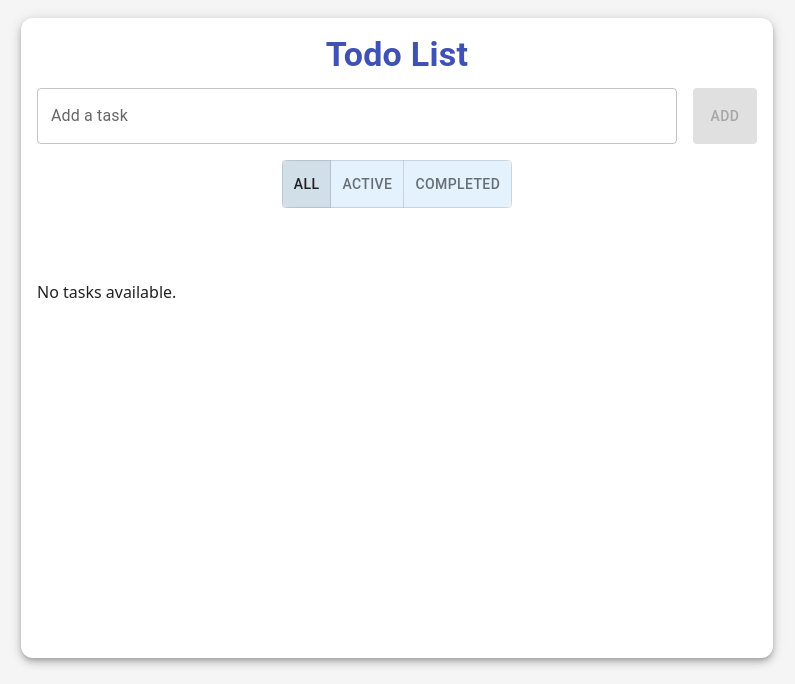
Test case: App Component › deletes a task
In the field labelled "Add a task": (357, 116) [37, 88, 677, 144], type "Task to Delete"
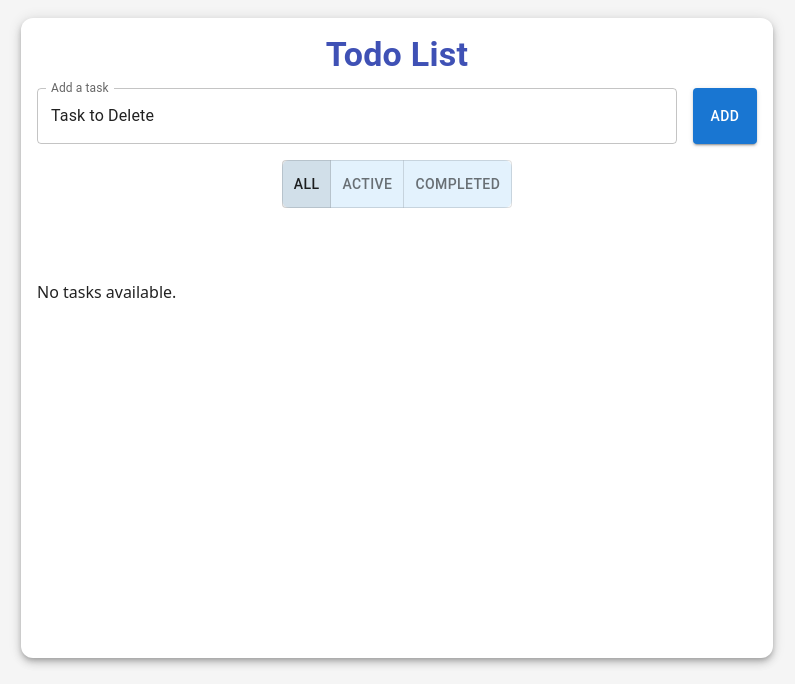
Click the button "Add": (725, 116) [693, 88, 757, 144]
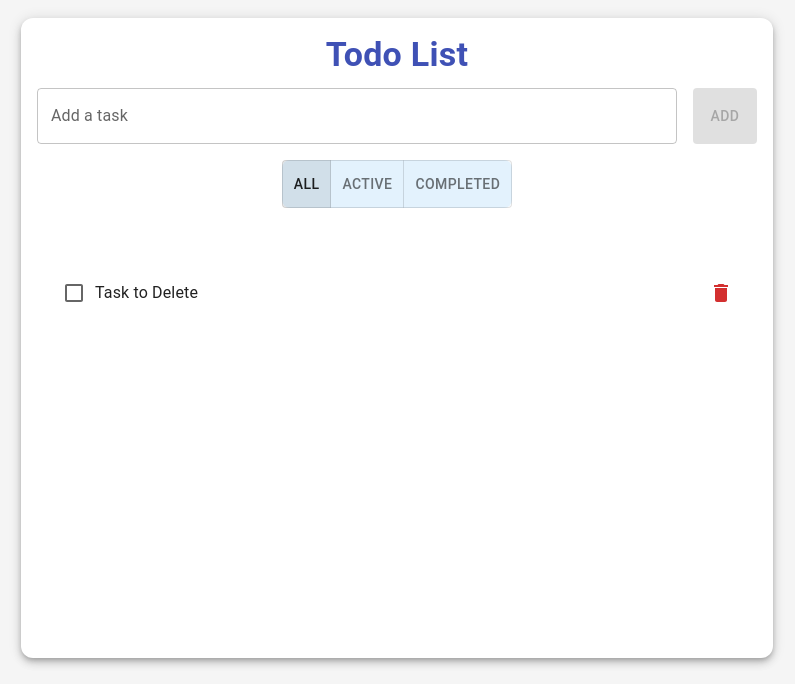
Check: the text "Task to Delete" is shown, box [95, 283, 198, 302]
Click the button named "delete": (721, 293) [701, 273, 741, 313]
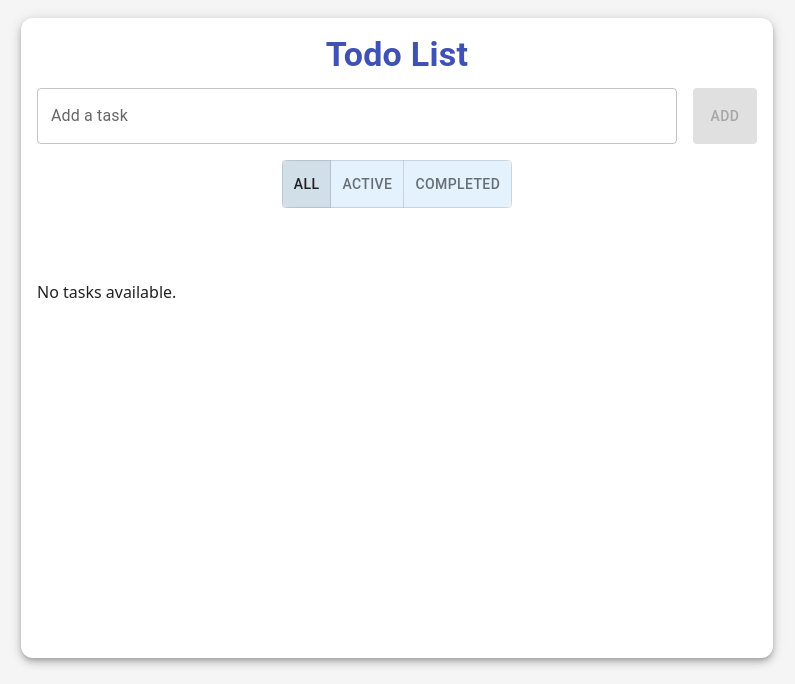
Check: the text "Task to Delete" is gone
